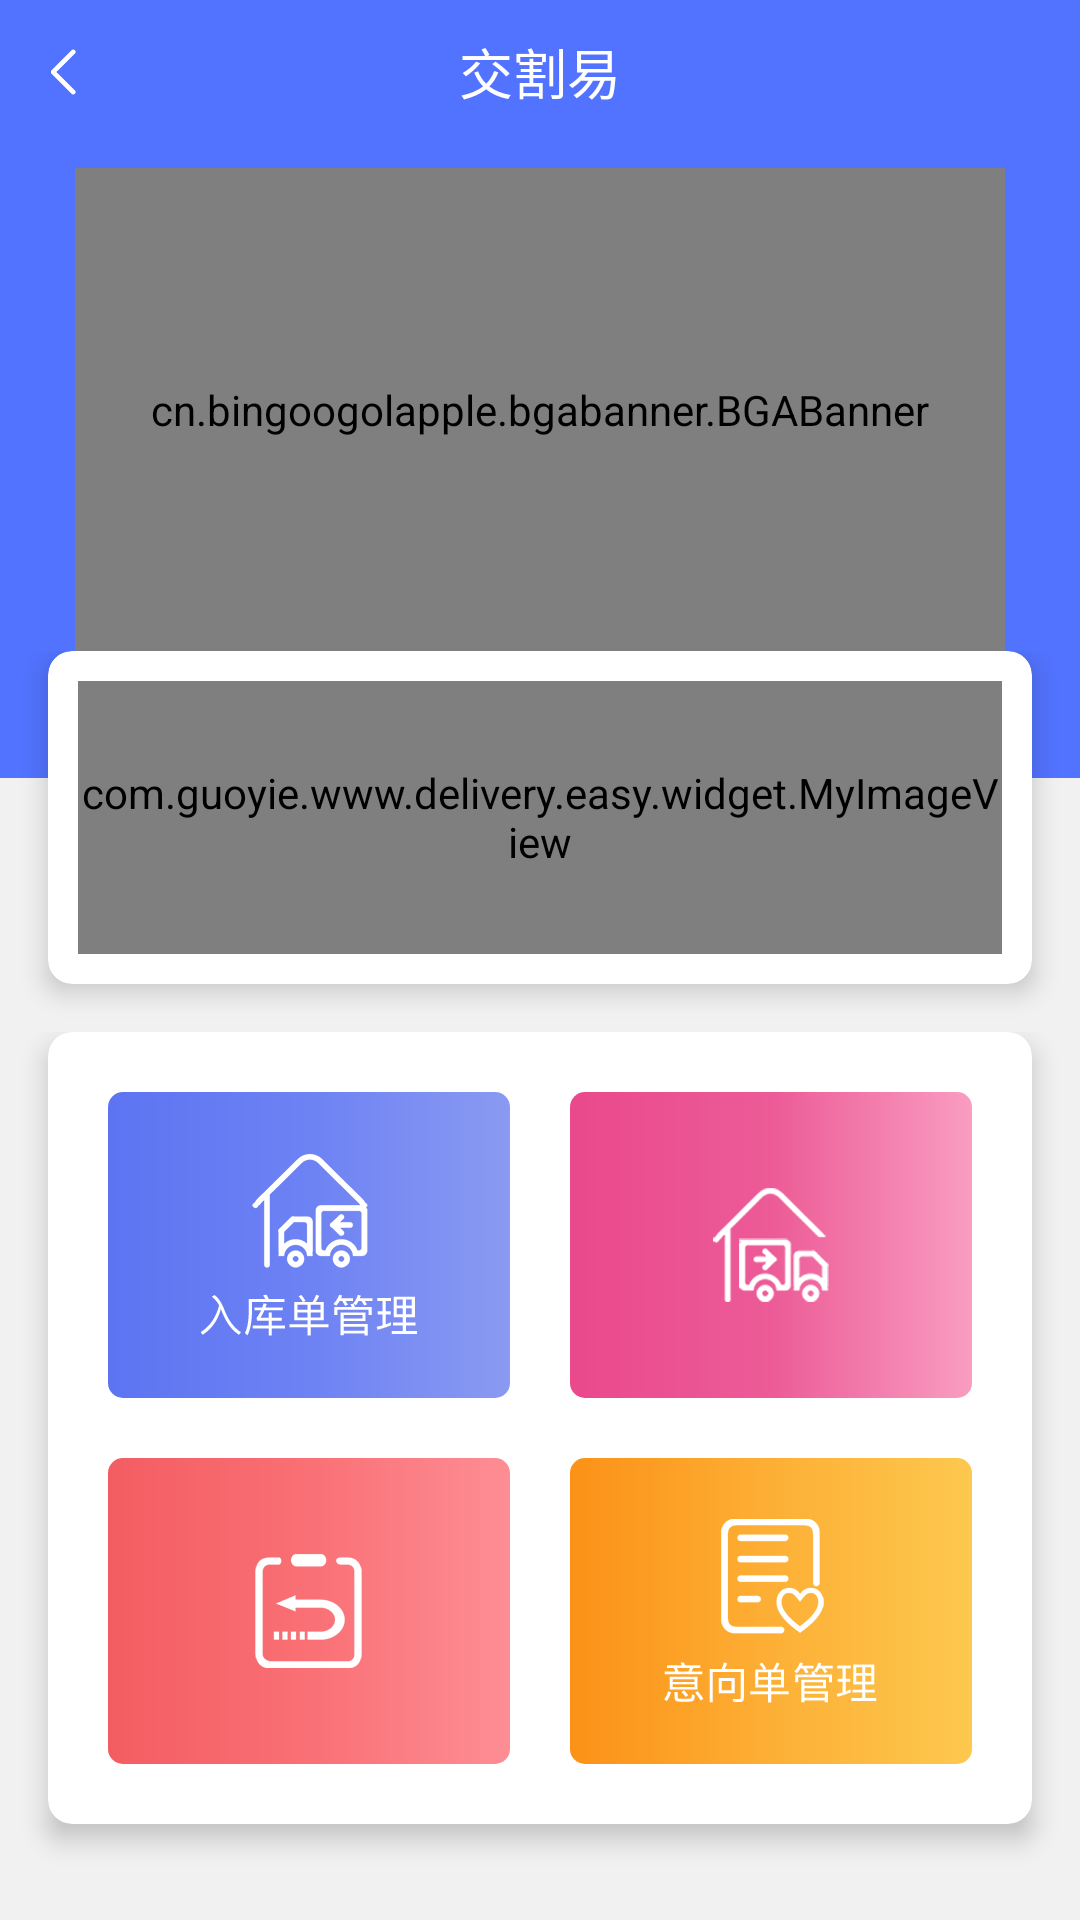

Icon click points for this 1080px×1920px phone screenshot, format (x=x, y=y):
left arrow: (x=63, y=72)
out: (x=769, y=1245)
